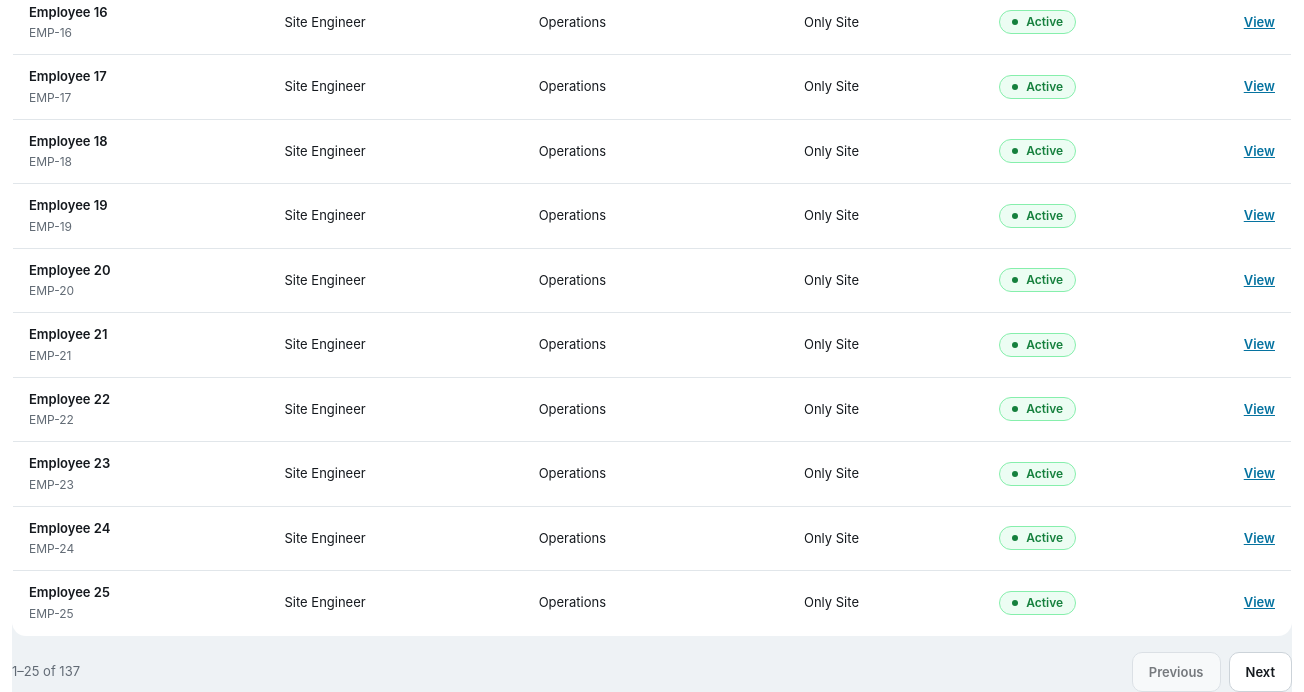
EmployeesListPage pagination (ADV-PRE-02) › page 1 renders, Next requests and renders page 2, Previous returns to page 1
(page scrolled)
Check: the text "1–25 of 137" is shown, box [12,662,80,681]
Click the button "Next". click: click(1260, 672)
box: [1228,652,1292,691]
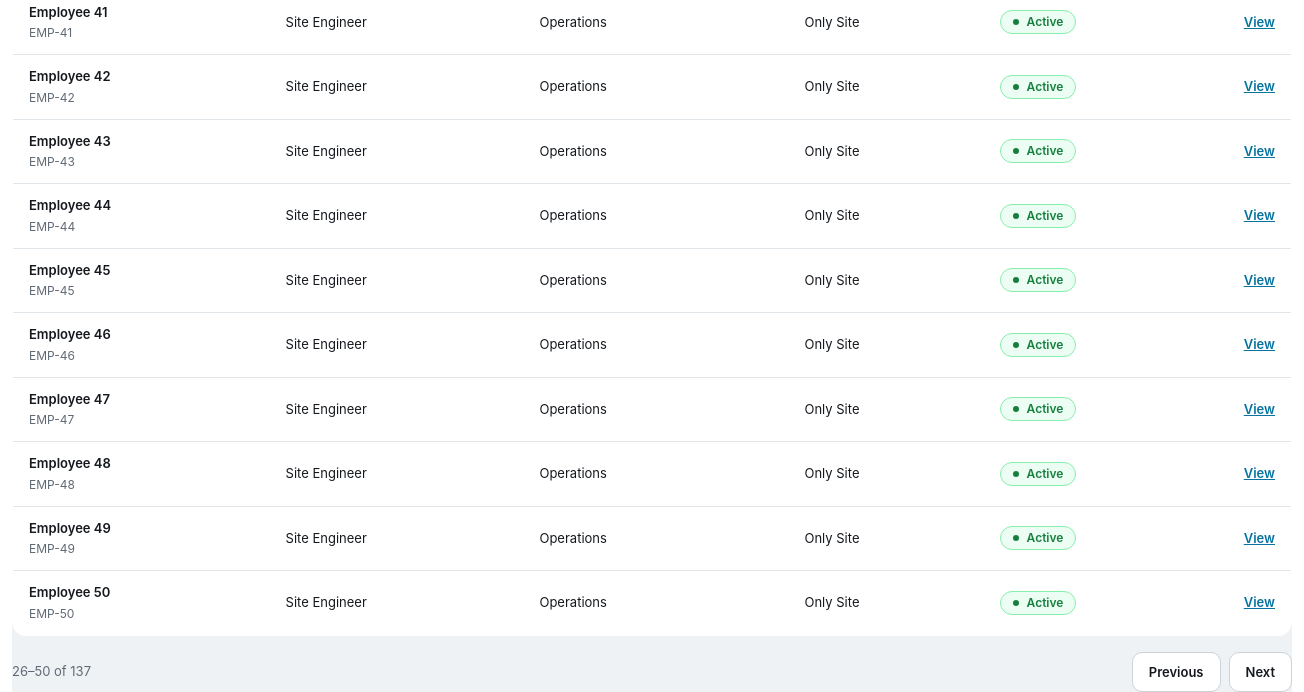
Check: the link "Employee 1" is not shown
Check: the text "26–50 of 137" is shown, box [12,662,91,681]
Click the button "Previous". click: click(1176, 672)
box: [1132,652,1221,691]
(page scrolled)
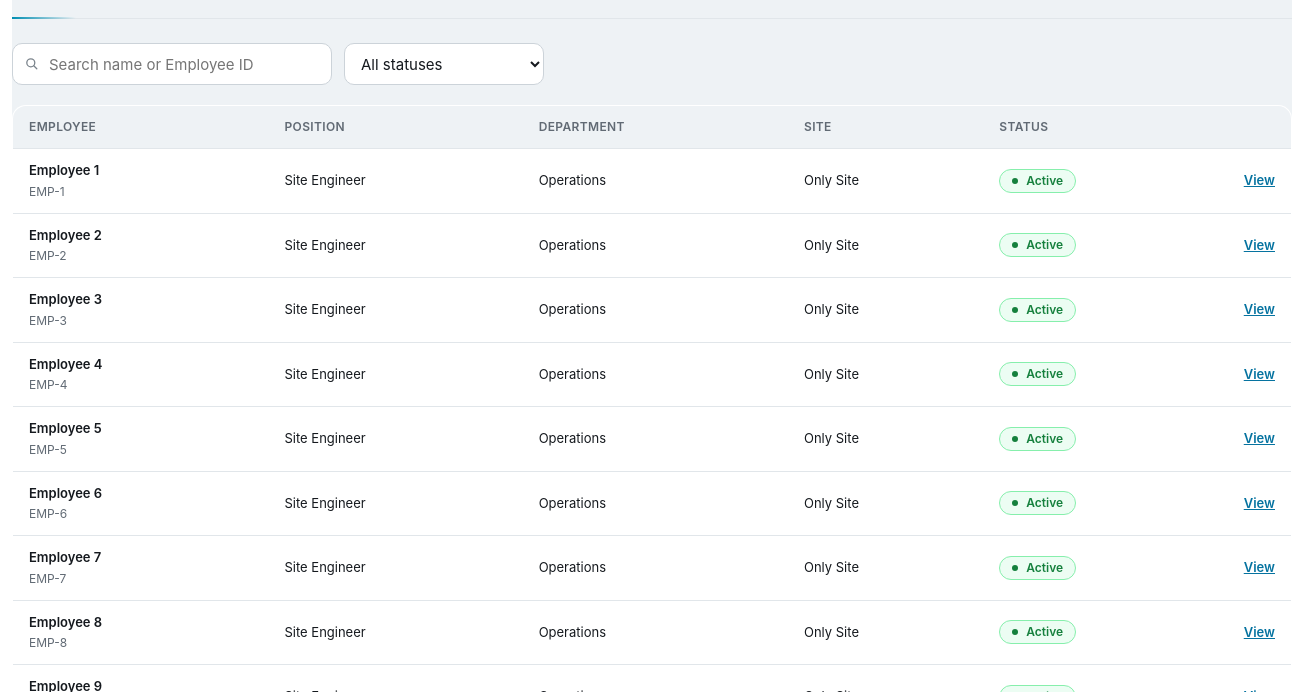
Check: the text "Employee 1" is shown, box [29,162,99,178]
